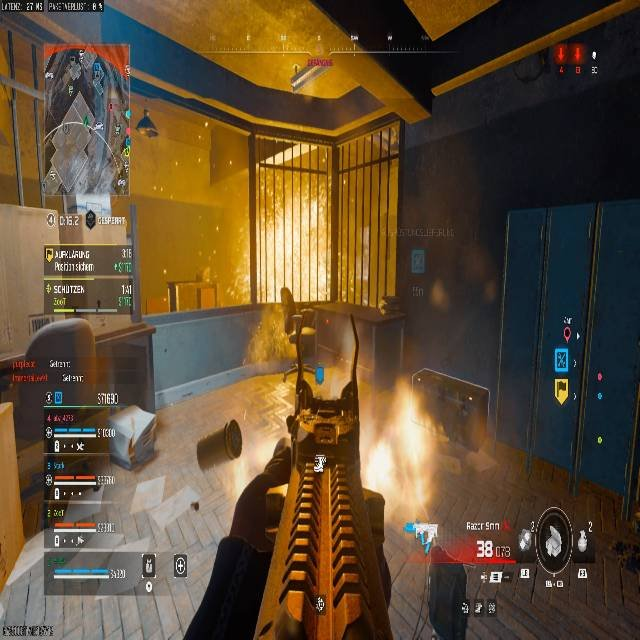head: (23, 319, 93, 399)
